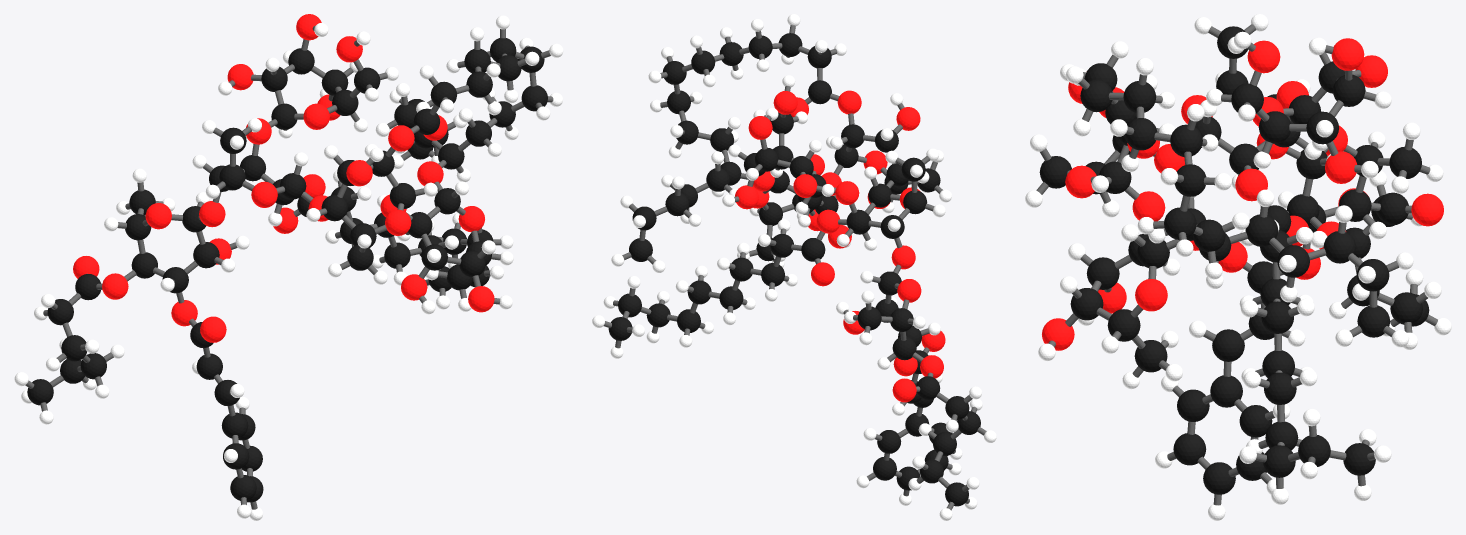
The model's file is molecule.glb.
3 renders of one model, left to right at view 1: azimuth 30°, elevation 25°; view 2: azimuth 150°, elevation 25°; view 3: azimuth 270°, elevation 25°, orthographic. The views are drawn at different scales.
Visible parts, largest first — view 1: no part large enough to name; view 2: geometry_64, geometry_48, geometry_94, geometry_10, geometry_85, geometry_96, geometry_90, geometry_46; view 3: geometry_28, geometry_64, geometry_75, geometry_94, geometry_76, geometry_80, geometry_90, geometry_79, geometry_92, geometry_81, geometry_34, geometry_36 (+54 smaller).
Part boxes in pixels (<box>): geometry_64: <box>892,378,916,402</box>; geometry_48: <box>837,90,861,114</box>; geometry_94: <box>748,116,772,139</box>; geometry_10: <box>811,262,834,286</box>; geometry_85: <box>835,181,859,204</box>; geometry_96: <box>793,174,817,197</box>; geometry_90: <box>773,91,797,114</box>; geometry_46: <box>808,80,831,104</box>; geometry_28: <box>1135,279,1167,311</box>; geometry_64: <box>1411,193,1443,226</box>; geometry_75: <box>1212,329,1244,361</box>; geometry_94: <box>1331,38,1364,70</box>; geometry_76: <box>1210,375,1242,407</box>; geometry_80: <box>1173,433,1206,465</box>; geometry_90: <box>1247,40,1280,73</box>; geometry_79: <box>1203,462,1235,494</box>; geometry_92: <box>1325,151,1357,183</box>; geometry_81: <box>1177,389,1209,421</box>; geometry_34: <box>1323,231,1356,263</box>; geometry_36: <box>1357,305,1390,337</box>.
Size of the model in its own units: 0.257 by 0.2523 by 0.1689.
